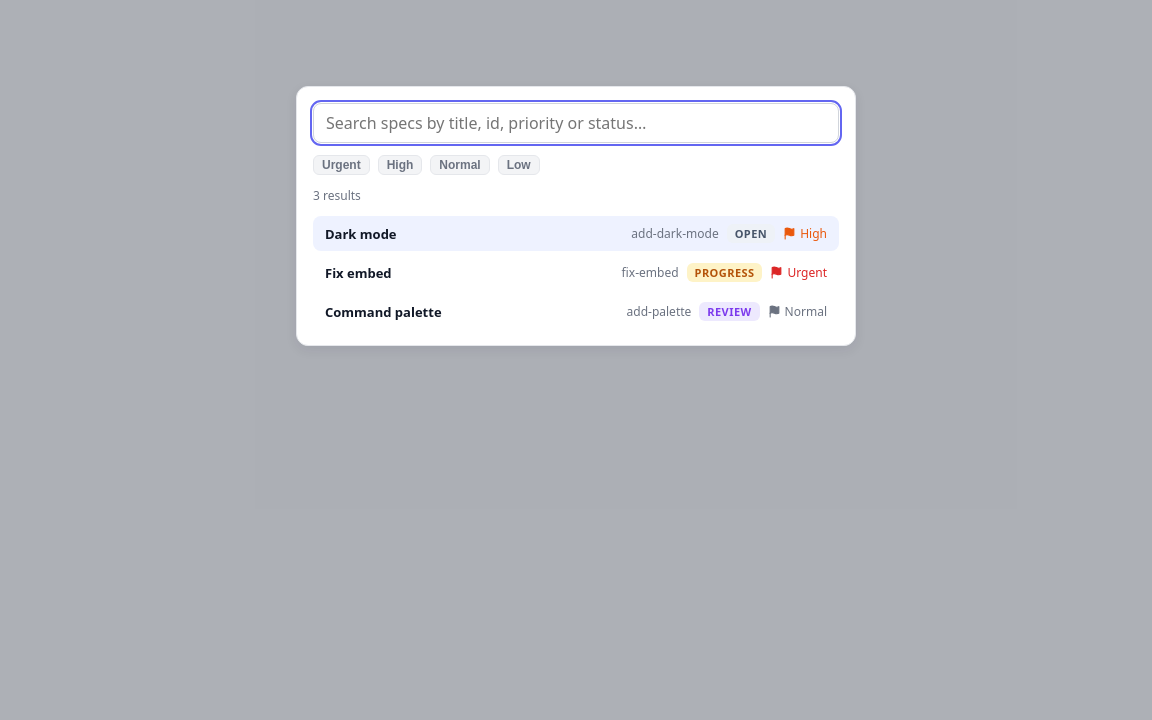
CommandPalette › refines the list with the priority chips
The image size is (1152, 720).
Check: the number of options is 3, box 313,216 -> 839,251; 325,263 -> 827,282; 325,302 -> 827,321
Click the button "high": (400, 165) 378,155 -> 422,175
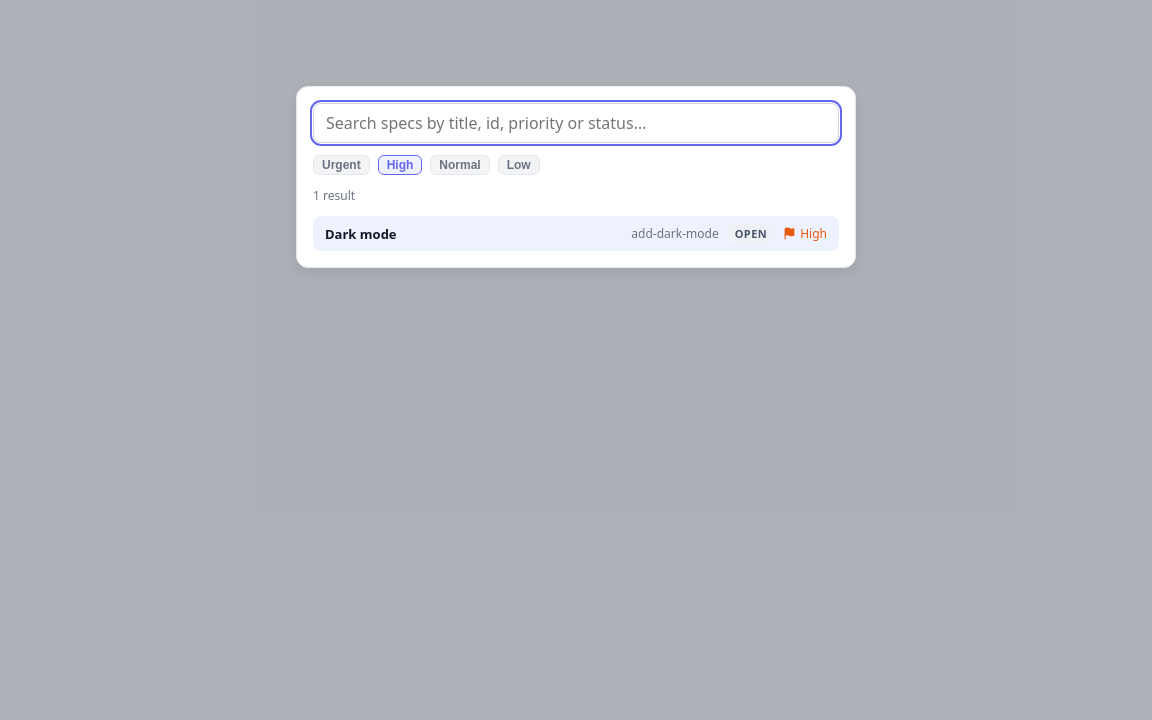
Check: the number of options is 1, box 313,216 -> 839,251
Check: the text "Dark mode" is shown, box 325,225 -> 396,243
Click the button "urgent": (341, 165) 313,155 -> 370,175
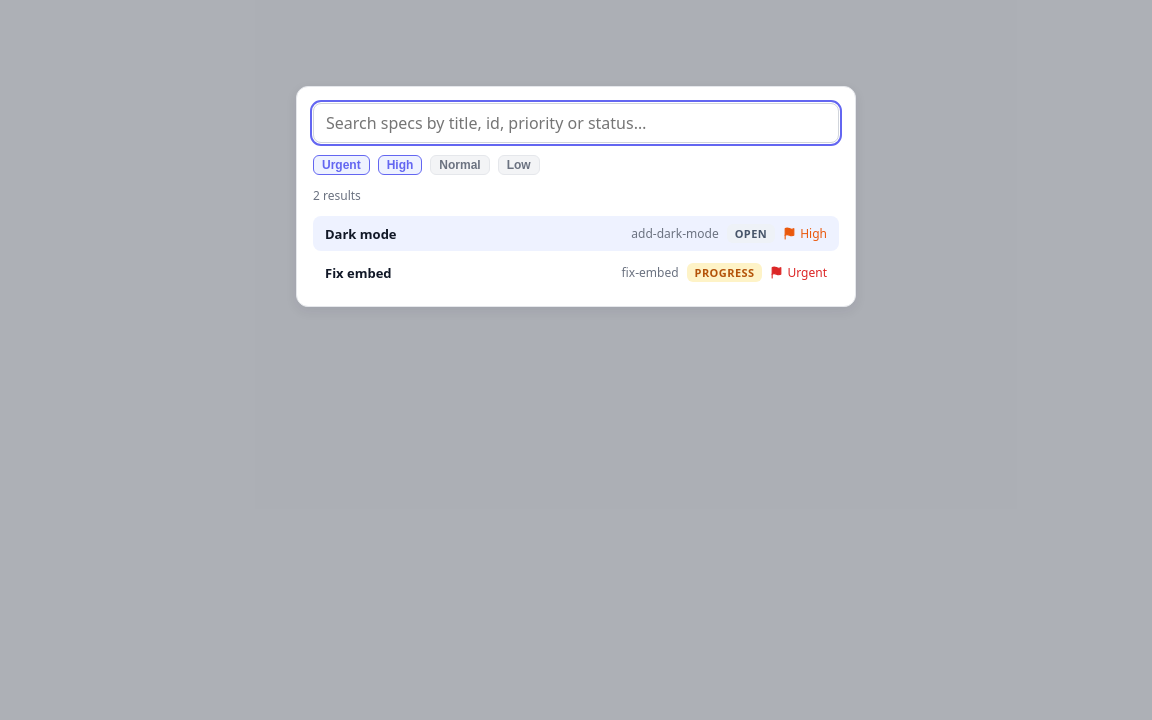
Check: the number of options is 2, box 313,216 -> 839,251; 325,263 -> 827,282
// Toggling both off restores the unfiltered list.
Click the button "high": (400, 165) 378,155 -> 422,175
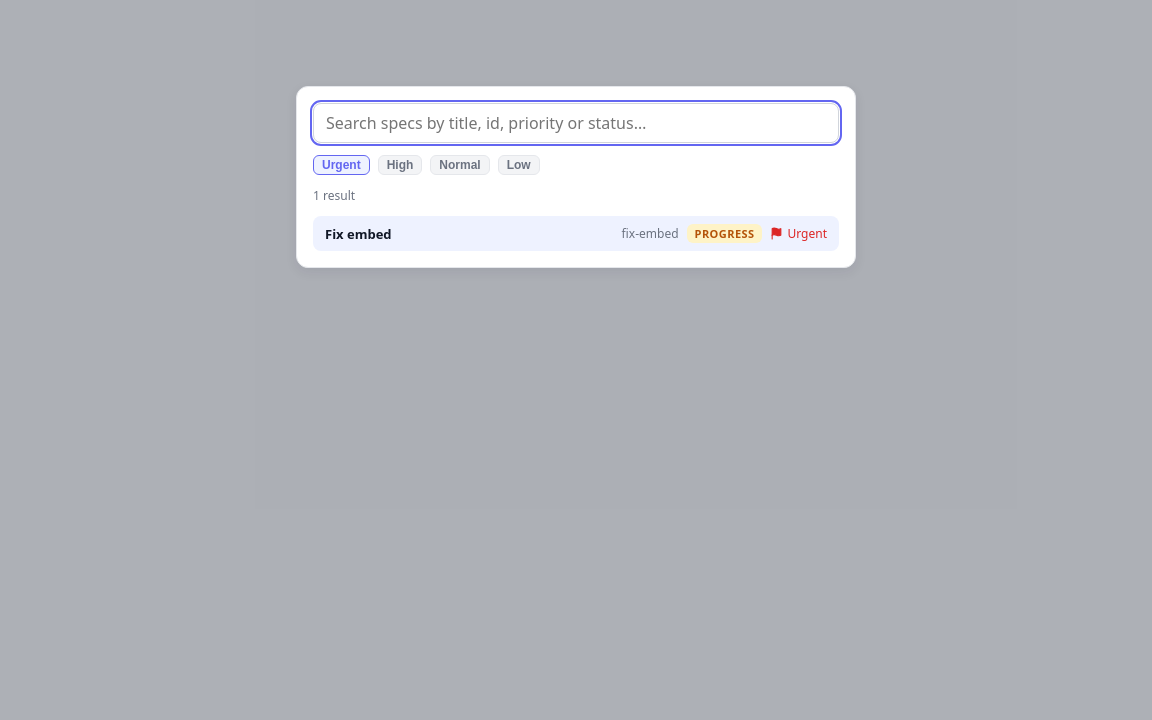
Click the button "urgent": (341, 165) 313,155 -> 370,175
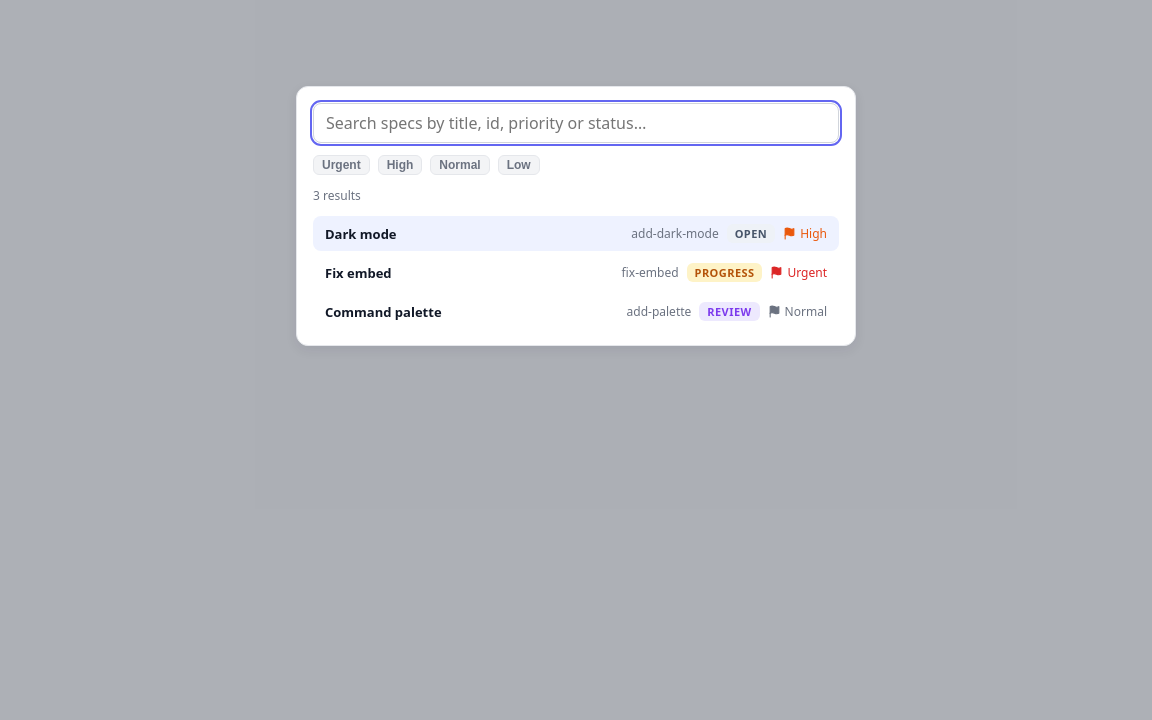
Check: the number of options is 3, box 313,216 -> 839,251; 325,263 -> 827,282; 325,302 -> 827,321
